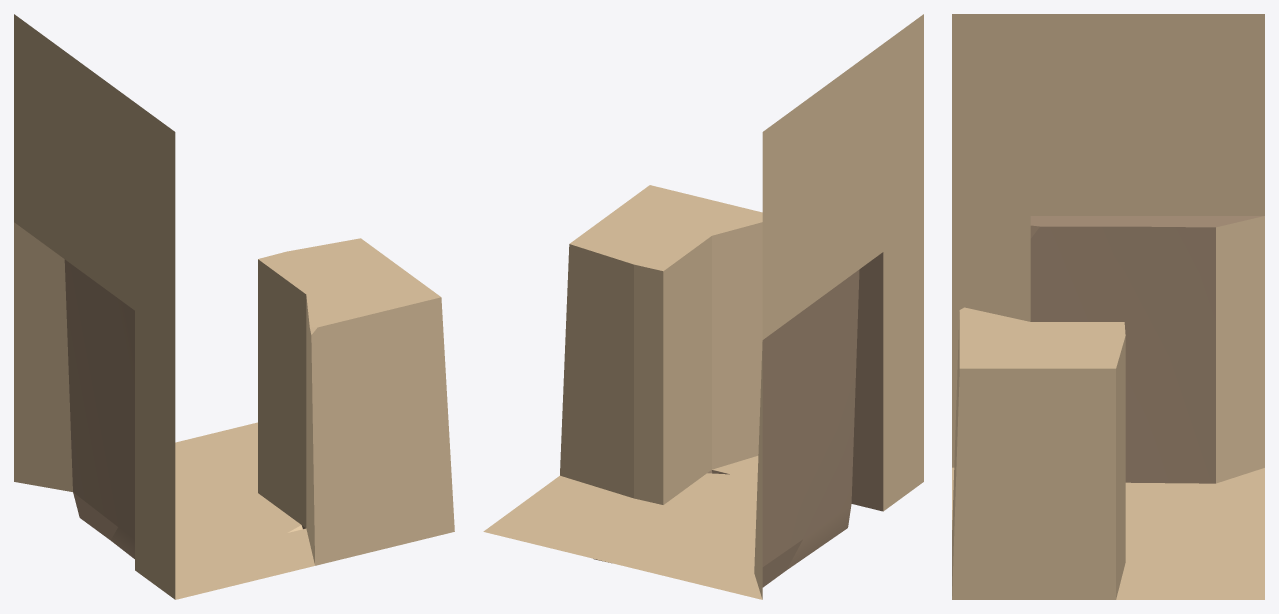
The model's file is WallPlatform.fbx.
3 views of the same model, side by side, from view 1: azimuth 30°, elevation 25°; view 2: azimuth 150°, elevation 25°; view 3: azimuth 270°, elevation 25° (orthographic). The views are drawn at different scales.
Visible parts, largest first — view 1: WallPlatform, WallPlatformPlatform; view 2: WallPlatform, WallPlatformPlatform; view 3: WallPlatform, WallPlatformPlatform.
Boxes of the visible parts, x1,y1,x2,y2 form: WallPlatform: [14, 14, 454, 599]; WallPlatformPlatform: [73, 452, 302, 560]; WallPlatform: [483, 14, 923, 599]; WallPlatformPlatform: [592, 473, 802, 587]; WallPlatform: [952, 14, 1264, 599]; WallPlatformPlatform: [1125, 482, 1216, 562].
Size of the model in its own units: 5 by 8.4 by 5.
